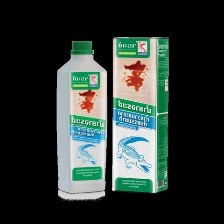book: (108, 34, 171, 195)
cleaning_solution: (54, 38, 109, 202)
